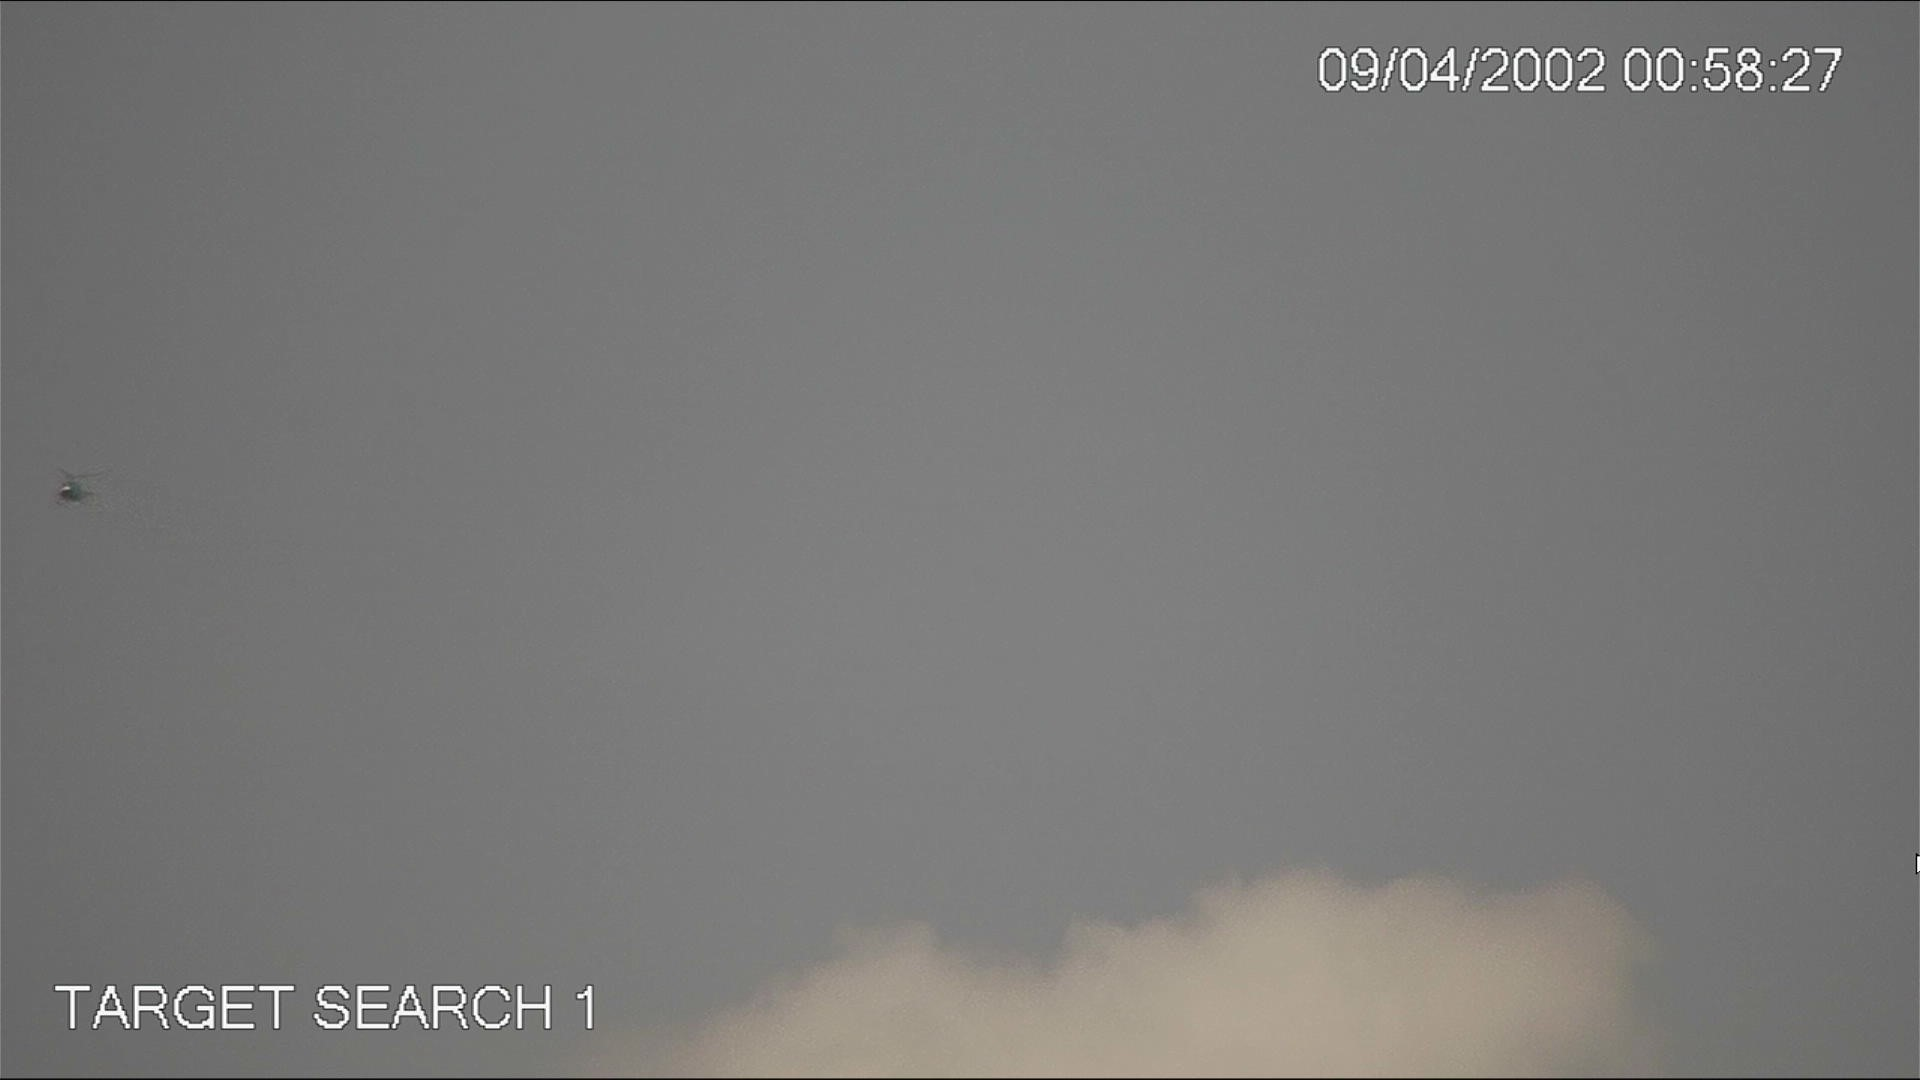SU_30: (47, 464, 84, 508)
